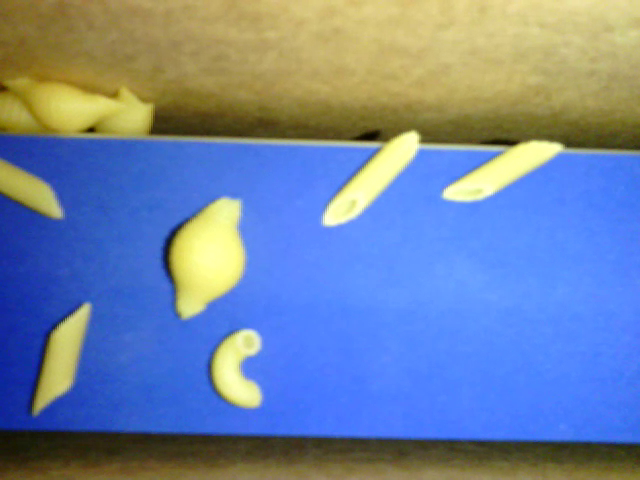elbow: (210, 327, 263, 408)
penne: (320, 130, 420, 227), (439, 138, 563, 205), (27, 298, 92, 414), (1, 157, 65, 219)
shell: (166, 195, 249, 316), (1, 71, 132, 134), (89, 87, 160, 139), (1, 87, 49, 132)
